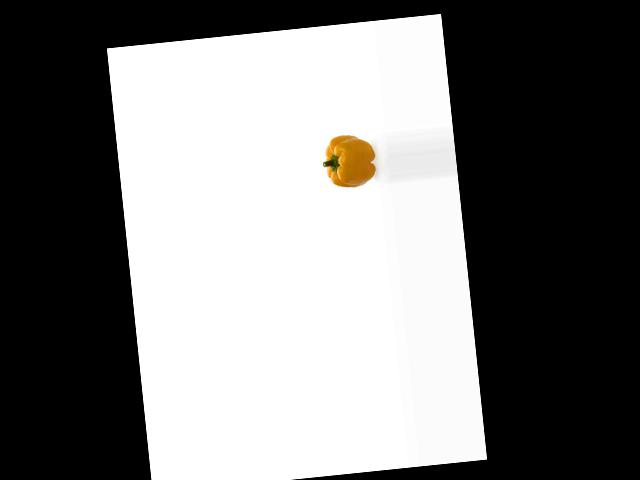bell_pepper: (317, 128, 379, 189)
